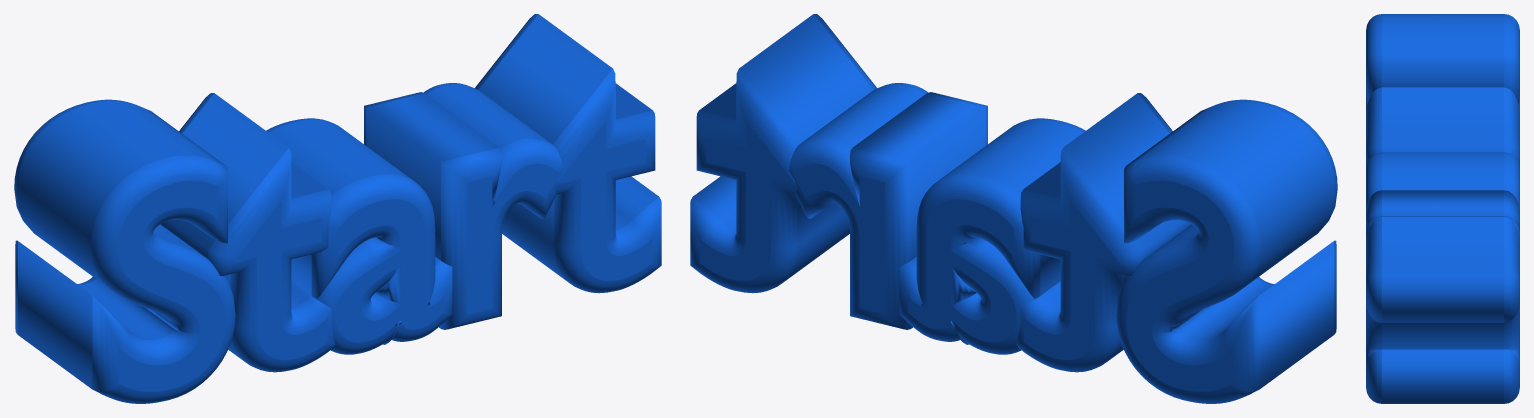
The model's file is Start.fbx.
3 views of the same model, side by side, from view 1: azimuth 30°, elevation 25°; view 2: azimuth 150°, elevation 25°; view 3: azimuth 270°, elevation 25° (orthographic). The views are drawn at different scales.
Visible parts, largest first — view 1: Text; view 2: Text; view 3: Text.
Boxes of the visible parts, box(x1,y1,x2,y2) form: Text: box(14, 14, 661, 403); Text: box(690, 14, 1337, 403); Text: box(1366, 14, 1519, 403).
Size of the model in its own units: 203 by 82.01 by 58.
